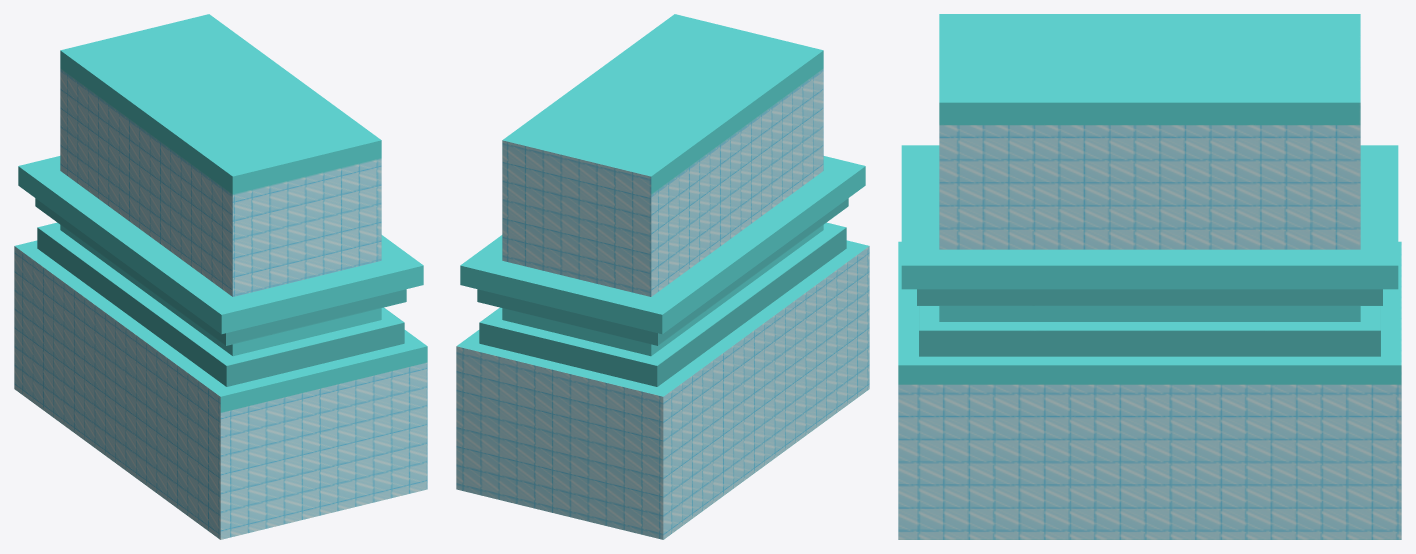
Rendered from bina2.fbx.
3 views of the same model, side by side, from view 1: azimuth 30°, elevation 25°; view 2: azimuth 150°, elevation 25°; view 3: azimuth 270°, elevation 25° (orthographic). The views are drawn at different scales.
Visible parts, largest first — view 1: bina2_; view 2: bina2_; view 3: bina2_.
Part boxes in pixels (x1,y1,x2,y2): bina2_: (14, 14, 427, 539); bina2_: (456, 14, 869, 539); bina2_: (898, 14, 1401, 539).
Size of the model in its own units: 17.08 by 27.1 by 29.44.
